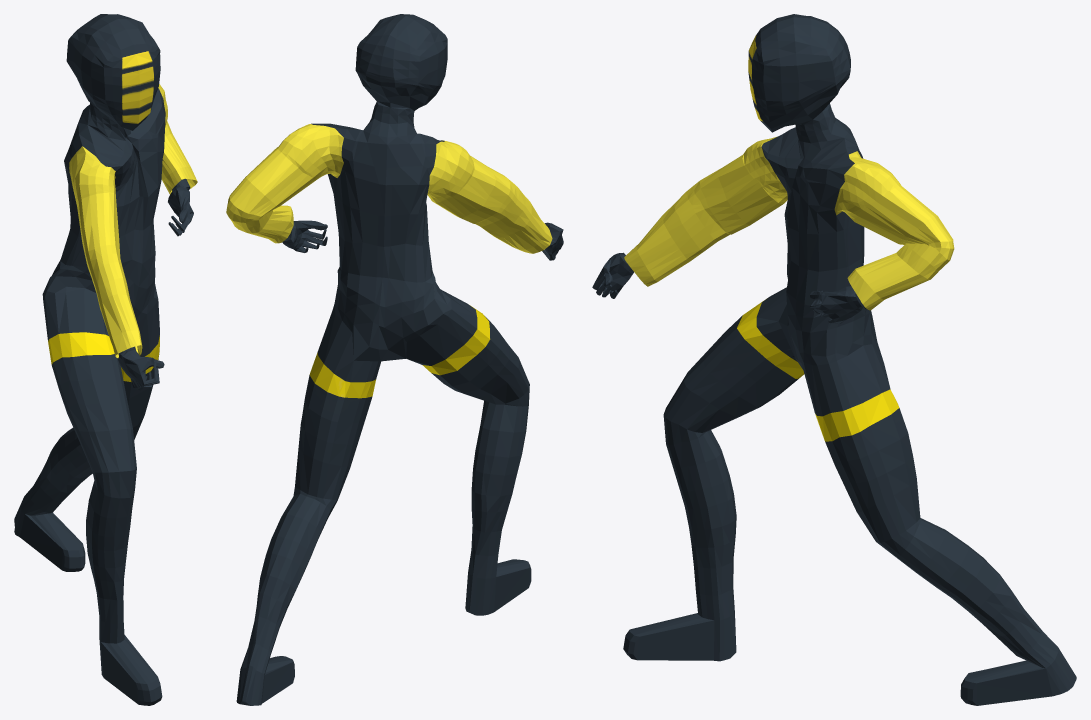
File: Sentry_Stun_000003.obj
3 renders of one model, left to right at view 1: azimuth 30°, elevation 25°; view 2: azimuth 150°, elevation 25°; view 3: azimuth 270°, elevation 25°, orthographic. The views are drawn at different scales.
Visible parts, largest first — view 1: Cube; view 2: Cube; view 3: Cube.
Part boxes in pixels (left/top/right/bottom): Cube: left=14, top=14, right=197, bottom=705; Cube: left=226, top=14, right=563, bottom=705; Cube: left=592, top=14, right=1076, bottom=705.
Bounding box in the file's own units: 1.15 × 3.59 × 2.38.
